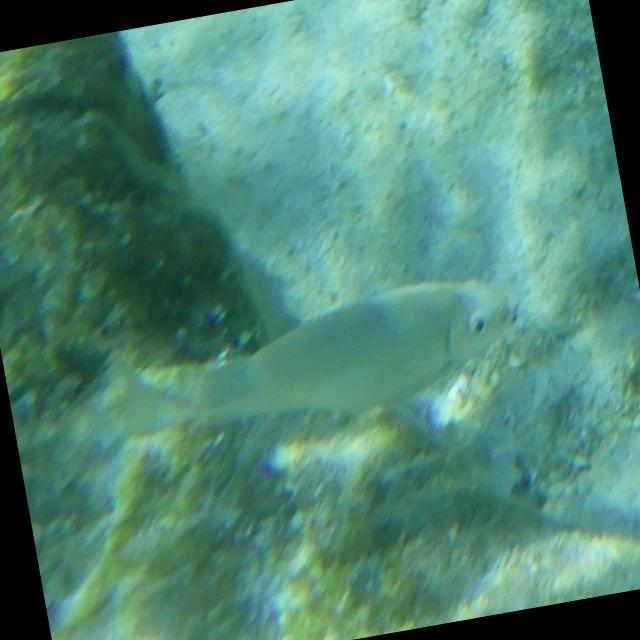Sokar Baligi: (98, 253, 542, 472)
